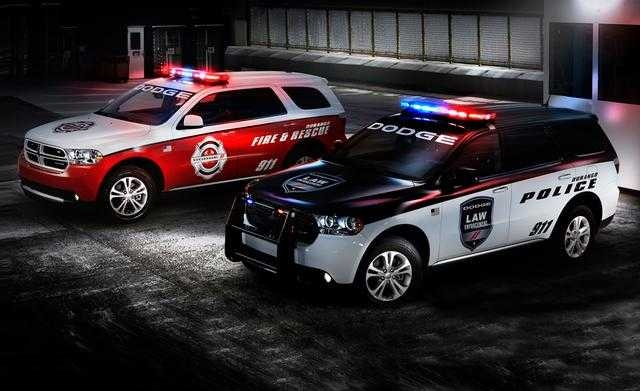Police Car: (256, 87, 626, 283), (12, 58, 319, 192)
